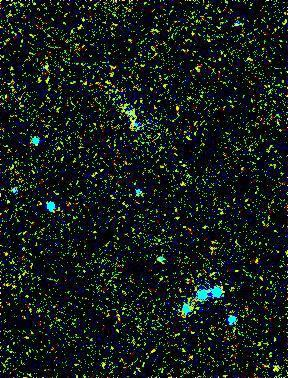star: (240, 247, 270, 277)
